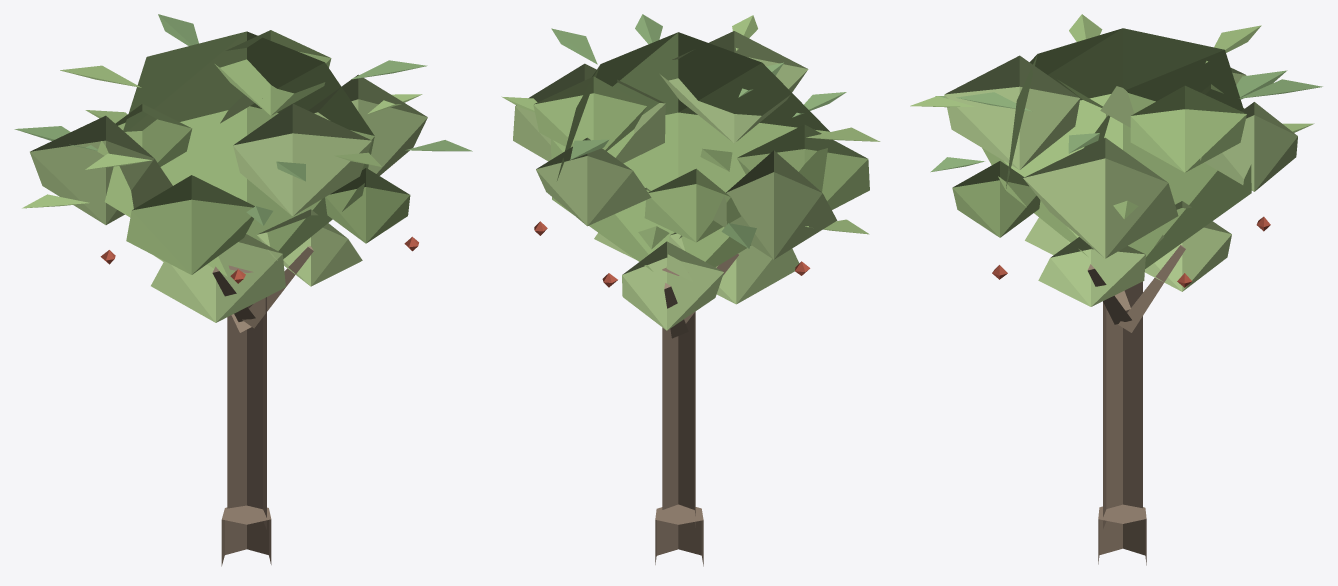
The model's file is shu.paotong@fruiting__spring.glb.
The picture shows the model from 3 angles, left to right: view 1: azimuth 30°, elevation 25°; view 2: azimuth 150°, elevation 25°; view 3: azimuth 270°, elevation 25°; orthographic projection.
Visible parts, largest first — view 1: shu.paotong@fruiting__spring; view 2: shu.paotong@fruiting__spring; view 3: shu.paotong@fruiting__spring.
Part boxes in pixels (<box>): shu.paotong@fruiting__spring: <box>14,14,472,566</box>; shu.paotong@fruiting__spring: <box>501,14,880,566</box>; shu.paotong@fruiting__spring: <box>910,14,1322,565</box>.
Size of the model in its own units: 12.98 by 16.56 by 11.9.
